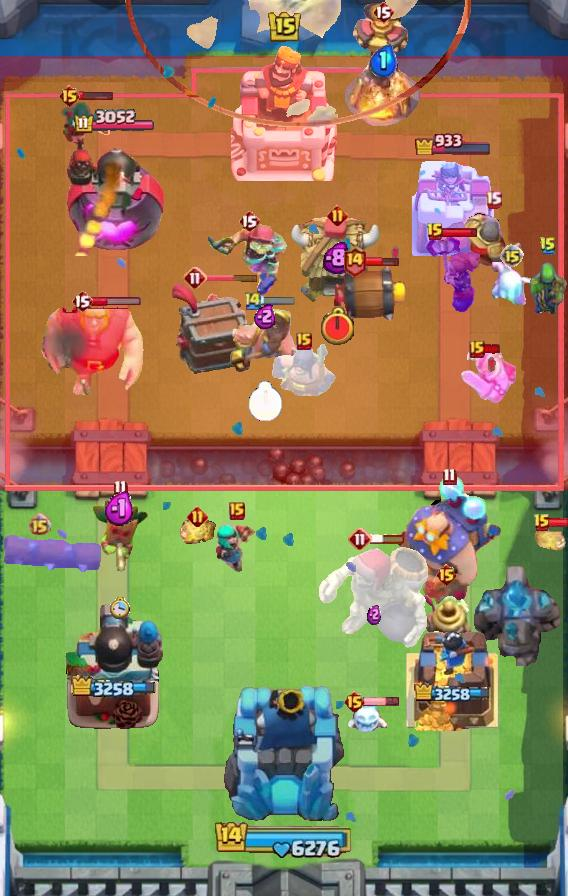balloon: (41, 297, 147, 395)
bat: (490, 262, 534, 306), (345, 698, 389, 736)
cannoneer-tower: (474, 563, 564, 667)
clock: (214, 819, 354, 859)
dart-goblin: (168, 282, 250, 376)
electro-dragon: (344, 0, 422, 126)
electro-giant: (316, 544, 432, 654)
electro-spirit: (104, 491, 136, 527), (369, 43, 397, 76), (323, 241, 351, 274), (255, 303, 278, 329), (367, 603, 381, 625)
elixir: (319, 305, 356, 346), (248, 382, 284, 423), (110, 596, 130, 619)
emote: (90, 297, 141, 308), (205, 273, 259, 283), (370, 533, 406, 545), (441, 227, 478, 238), (363, 696, 400, 707), (78, 91, 114, 102), (364, 257, 400, 268), (261, 294, 296, 305), (548, 515, 567, 528), (482, 343, 501, 355)
fireball: (208, 224, 290, 298)
firecracker: (463, 212, 524, 274)
freeze: (228, 306, 302, 378)
giant-snowball: (528, 260, 568, 318)
goblin-barrel: (90, 498, 150, 574)
goblin-drill: (419, 591, 473, 649)
goblin-giant: (460, 349, 520, 405)
ice-spirit-evolution: (177, 517, 217, 547), (534, 527, 568, 553)
king-tower: (221, 682, 347, 826), (231, 43, 337, 181)
little-prince: (395, 474, 503, 608)
minion: (0, 532, 102, 572)
monk: (271, 342, 337, 400)
prince: (290, 215, 384, 305)
queen-tower: (405, 621, 501, 731), (412, 156, 494, 256)
royal-ghost: (125, 1, 471, 128)
selected: (70, 675, 157, 701), (72, 109, 155, 135), (414, 129, 494, 154), (414, 683, 492, 706)
tesla: (59, 98, 111, 156)
tesla-evolution: (424, 237, 481, 316)
text: (341, 247, 366, 278), (500, 244, 524, 268), (183, 266, 207, 290), (348, 527, 372, 551), (58, 84, 81, 108), (434, 563, 457, 587), (342, 690, 365, 714), (29, 512, 52, 535), (372, 0, 394, 24), (238, 209, 260, 233), (71, 289, 93, 313), (188, 505, 209, 527), (327, 205, 348, 226), (243, 289, 263, 310), (426, 222, 444, 242), (539, 236, 557, 256), (533, 513, 551, 533), (485, 190, 502, 209), (296, 332, 312, 350), (469, 340, 485, 358), (229, 502, 245, 520), (442, 467, 457, 485), (113, 479, 128, 497)
the-log: (330, 264, 410, 324)
tower-bar: (64, 601, 164, 731), (63, 138, 164, 256)
witch: (214, 522, 260, 574)
